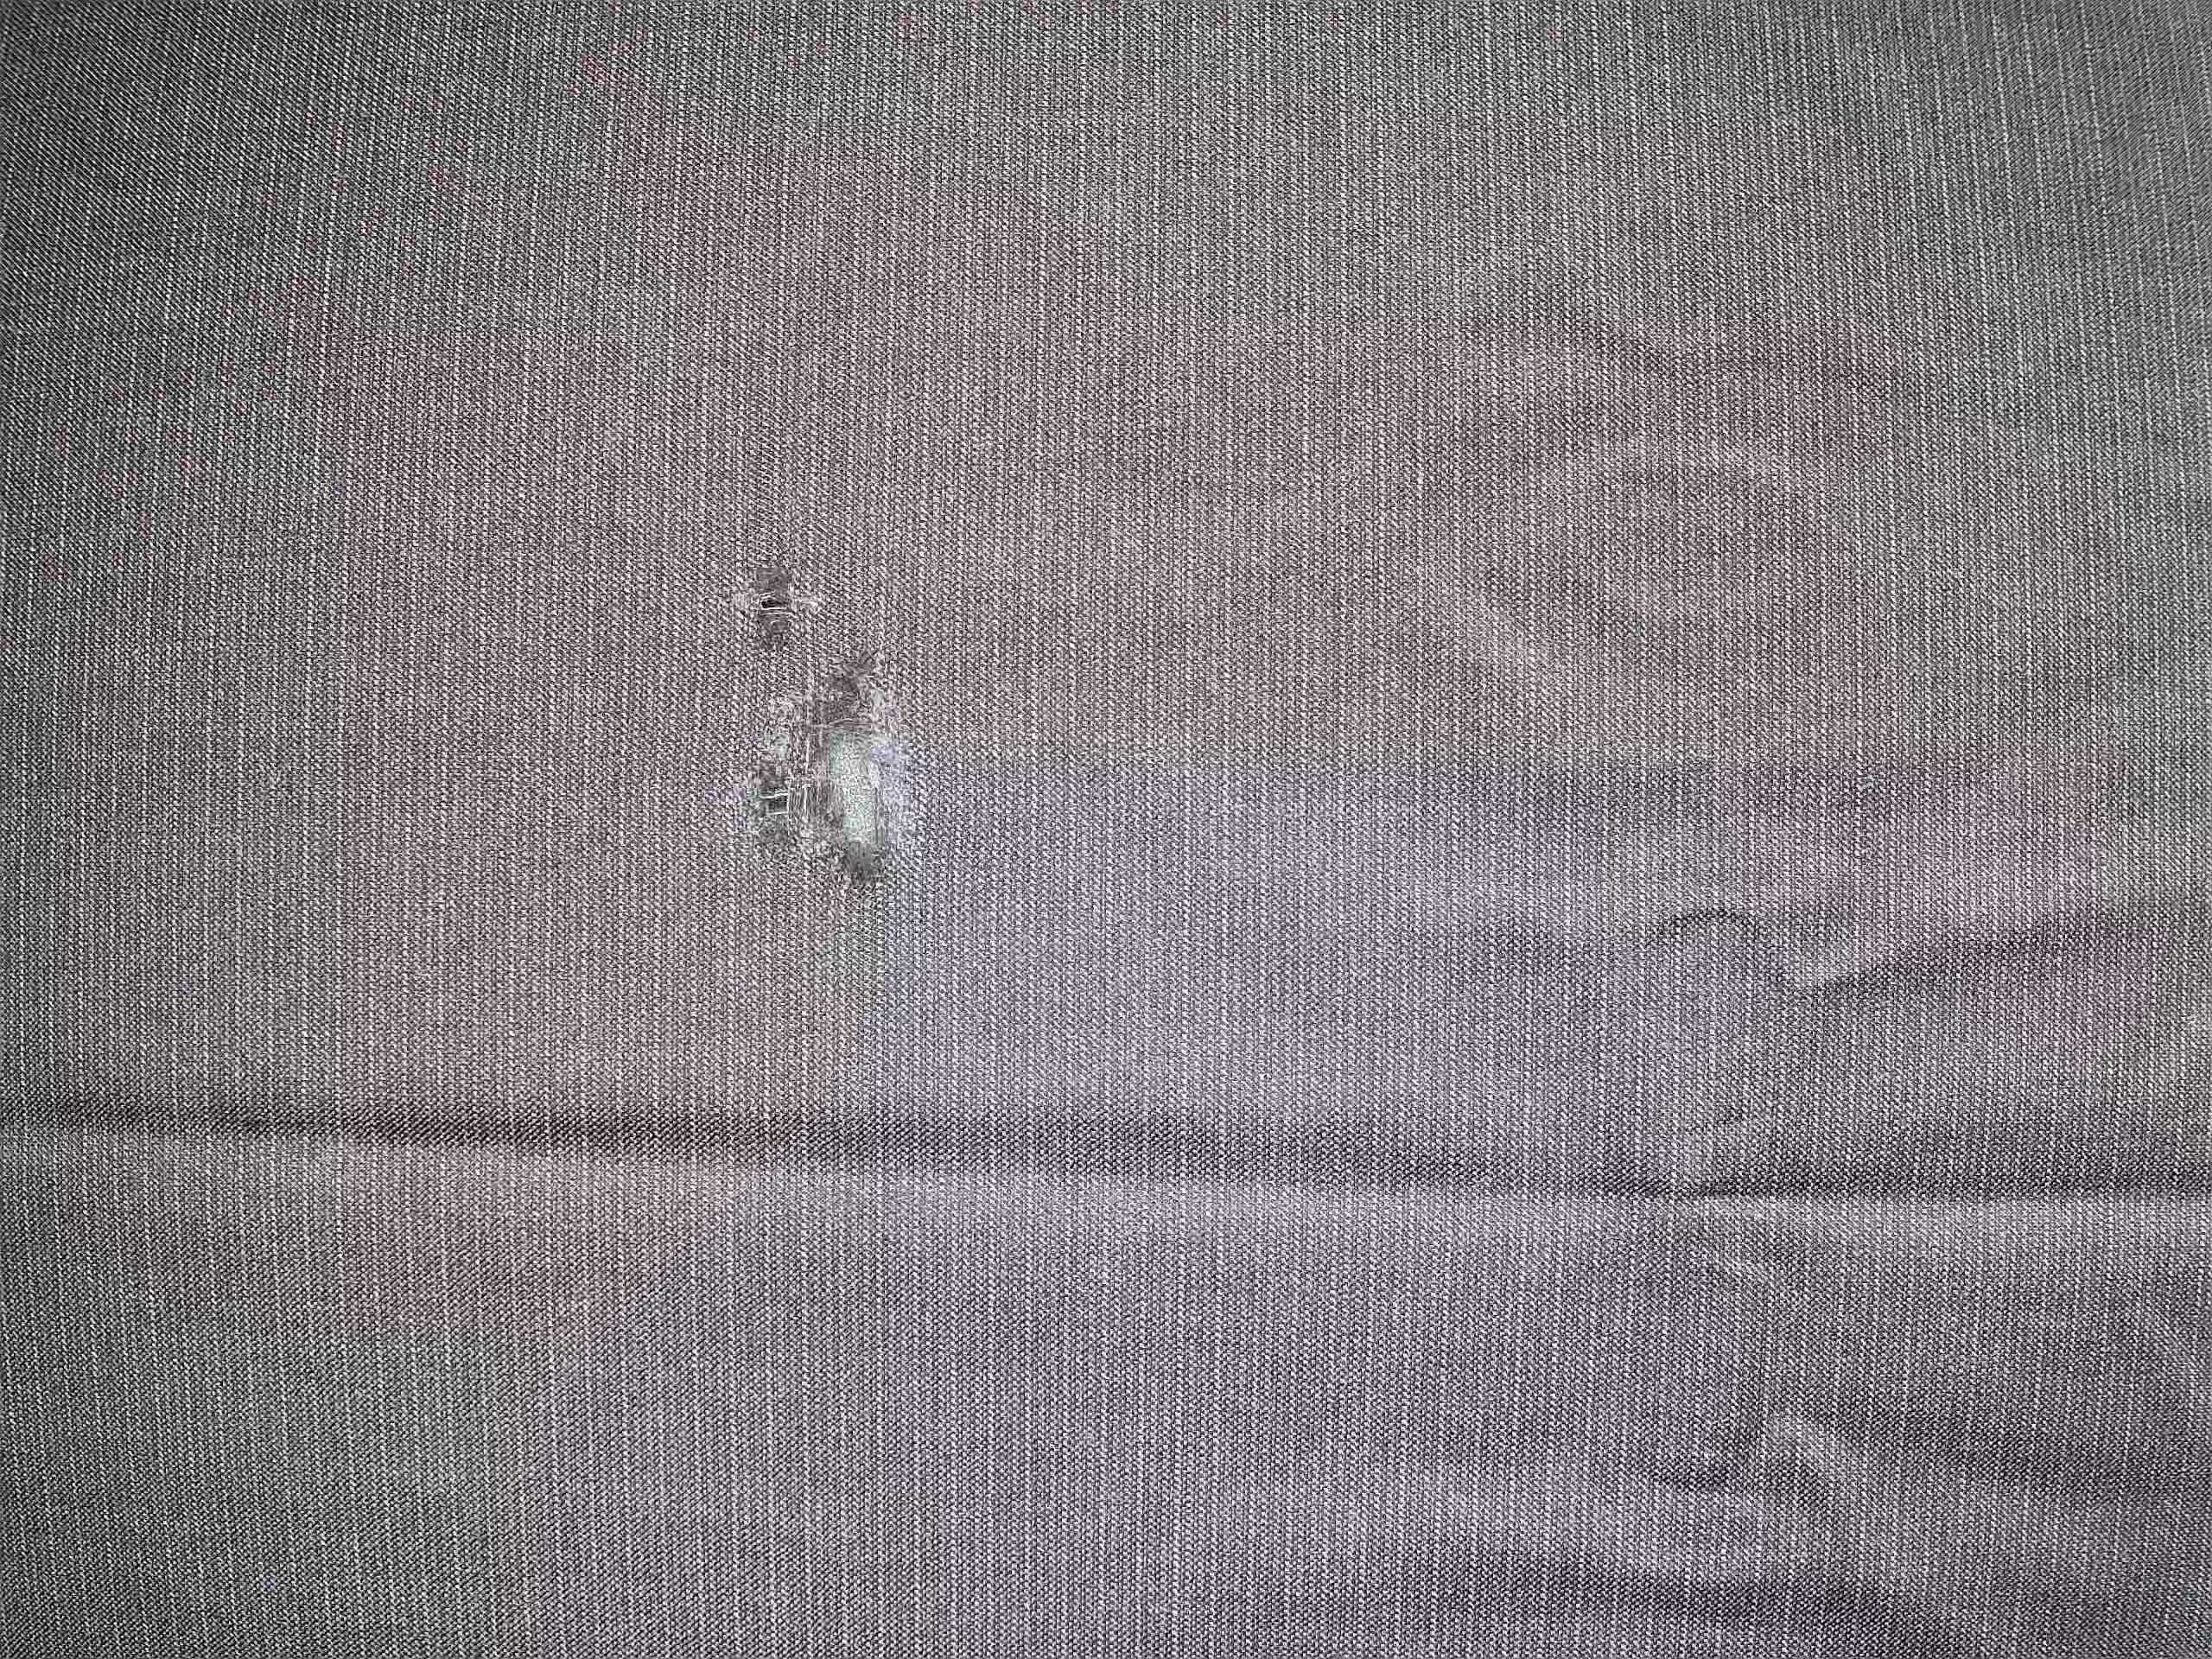rubbing-hole: (707, 528, 951, 920)
